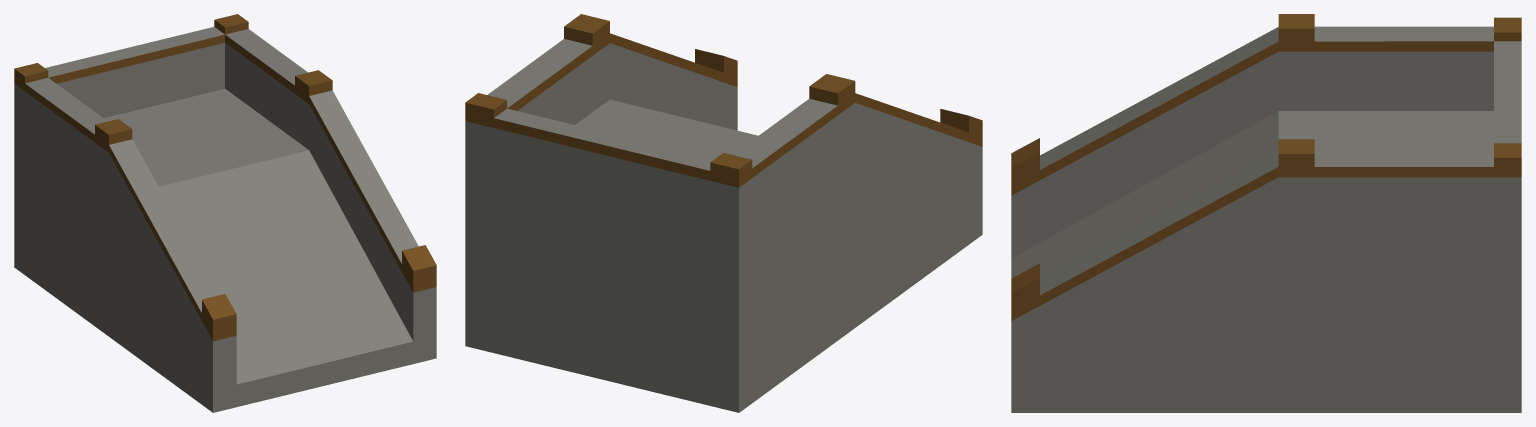
Rendered from ramp.fbx.
3 views of the same model, side by side, from view 1: azimuth 30°, elevation 25°; view 2: azimuth 150°, elevation 25°; view 3: azimuth 270°, elevation 25° (orthographic). The views are drawn at different scales.
Visible parts, largest first — view 1: Ramp; view 2: Ramp; view 3: Ramp.
Boxes of the visible parts, <box> form: Ramp: <box>14,14,436,412</box>; Ramp: <box>465,14,982,412</box>; Ramp: <box>1011,14,1521,412</box>.
Size of the model in its own units: 200 by 308 by 172.
